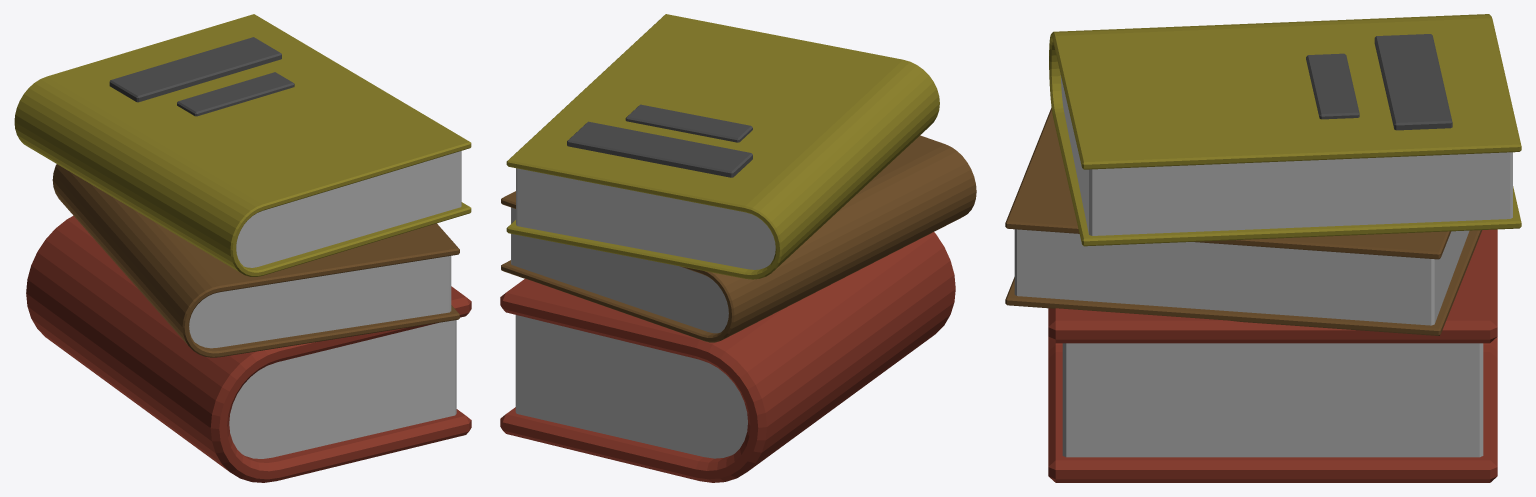
Rendered from Books_colorsChanged.fbx.
The picture shows the model from 3 angles, left to right: view 1: azimuth 30°, elevation 25°; view 2: azimuth 150°, elevation 25°; view 3: azimuth 270°, elevation 25°; orthographic projection. The views are drawn at different scales.
Parts seen in each view (by area): view 1: Books_colorsChanged; view 2: Books_colorsChanged; view 3: Books_colorsChanged.
Part boxes in pixels (left/top/right/bottom): Books_colorsChanged: left=14, top=14, right=471, bottom=482; Books_colorsChanged: left=500, top=14, right=976, bottom=482; Books_colorsChanged: left=1005, top=14, right=1521, bottom=482.
Bounding box in the file's own units: 16.3 × 14.55 × 20.21.
